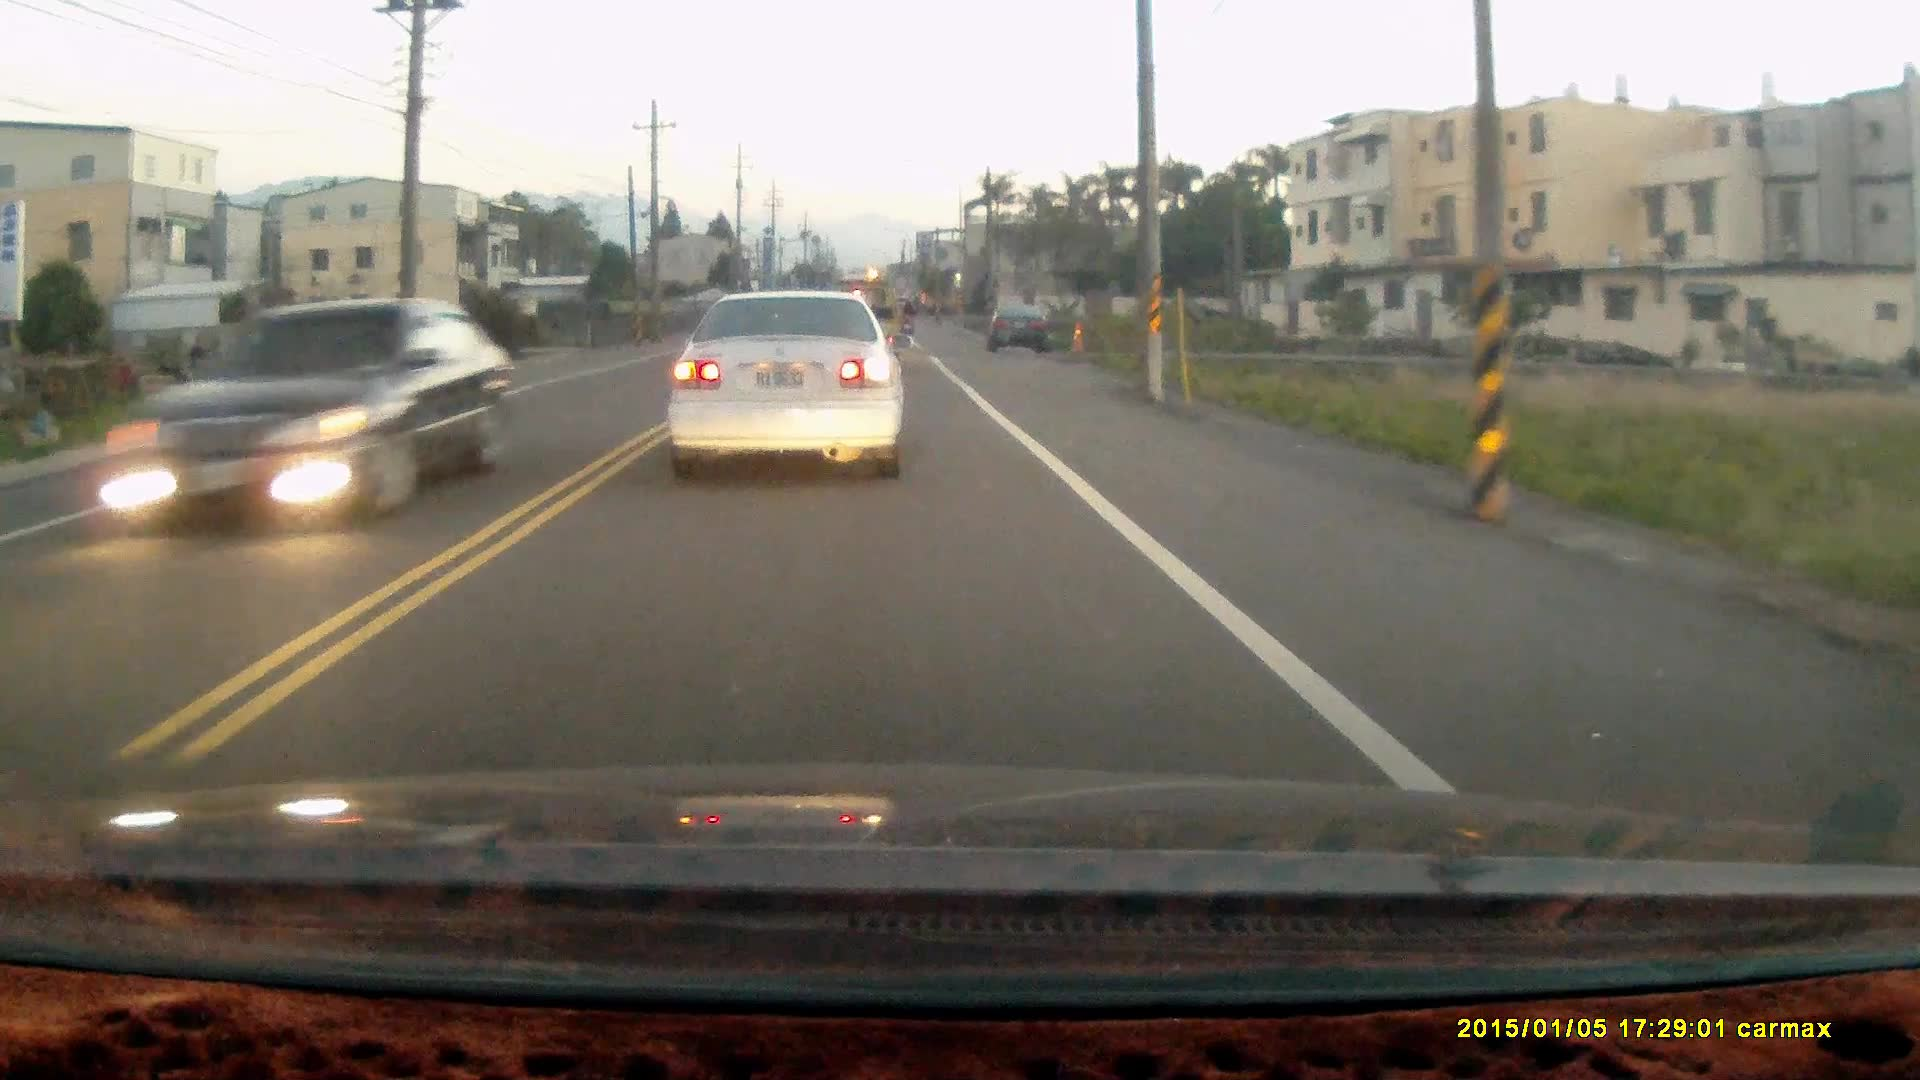pedestrian: (111, 353, 138, 405), (186, 336, 206, 385)
vehicle: (94, 297, 512, 539), (663, 294, 905, 489), (992, 296, 1062, 355)
